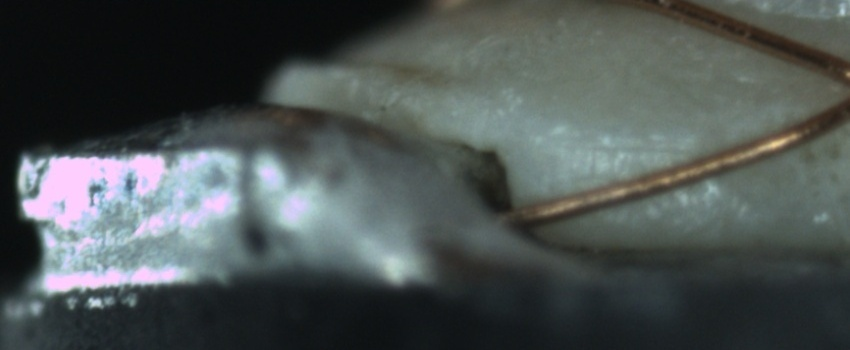DL: (567, 119, 703, 174)
